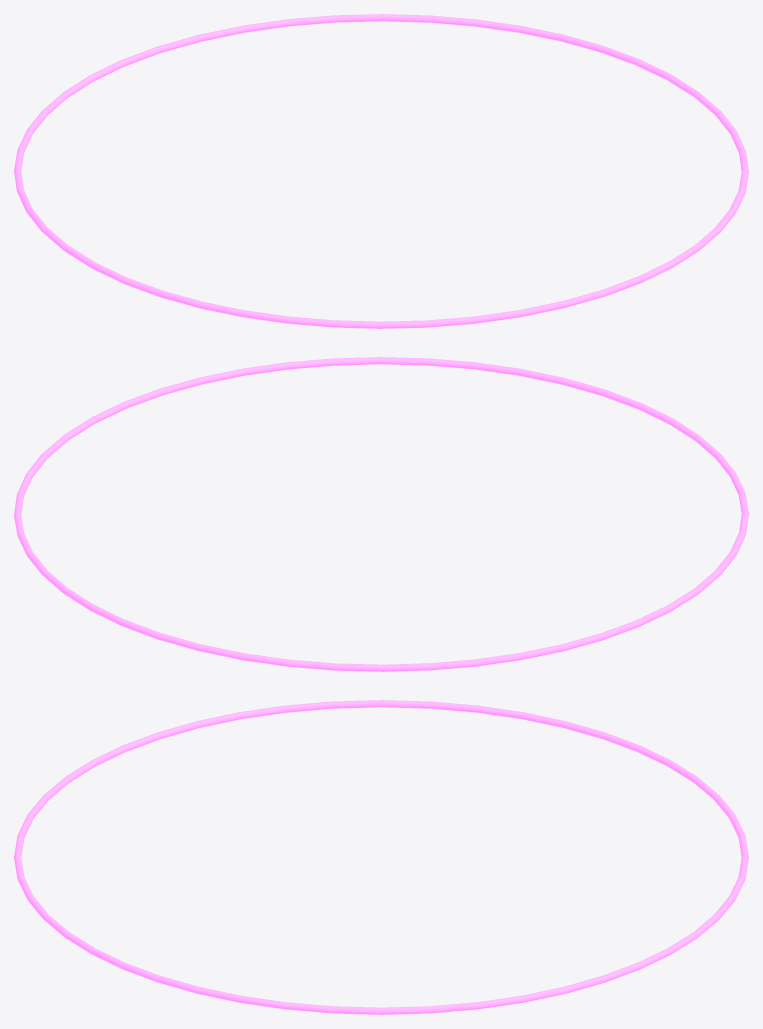
The model's file is divider.glb.
The picture shows the model from 3 angles, top to bottom: view 1: azimuth 30°, elevation 25°; view 2: azimuth 150°, elevation 25°; view 3: azimuth 270°, elevation 25°; orthographic projection.
Visible parts, largest first — view 1: Workspace Ring Center; view 2: Workspace Ring Center; view 3: Workspace Ring Center.
Boxes of the visible parts, x1=… form: Workspace Ring Center: x1=14, y1=14, x2=748, y2=328; Workspace Ring Center: x1=14, y1=357, x2=748, y2=671; Workspace Ring Center: x1=14, y1=700, x2=748, y2=1014.
Size of the model in its own units: 2.02 by 0.02 by 2.02.
